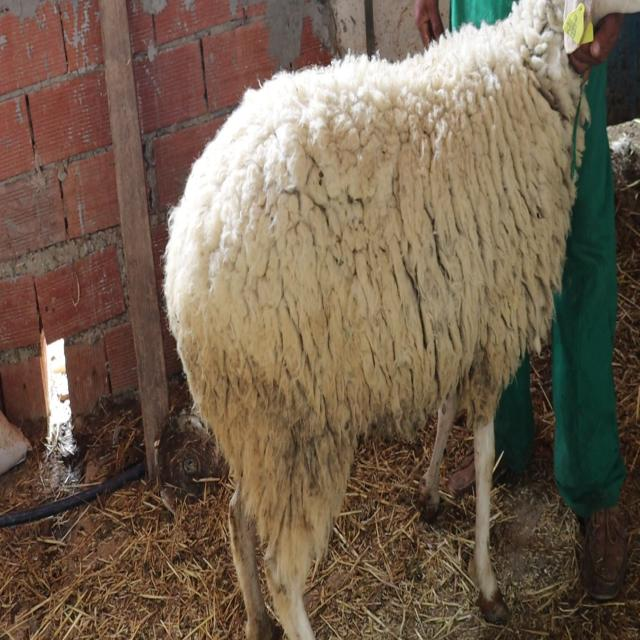Score_4: (164, 0, 640, 639)
